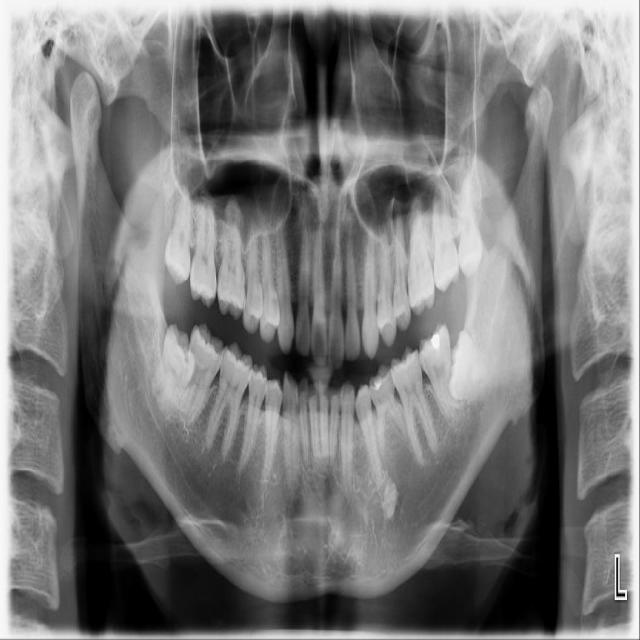Filling: (422, 328, 448, 352), (368, 368, 389, 390)
Periapical lesion: (368, 470, 397, 517), (285, 472, 305, 520)
impacted tooth: (446, 333, 507, 401), (147, 326, 195, 411)
